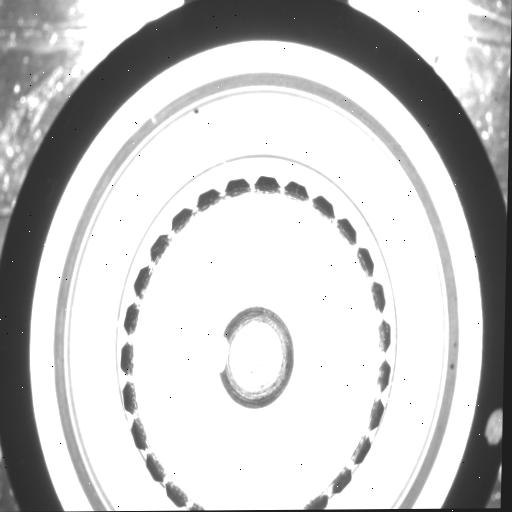gear: (116, 175, 397, 511)
